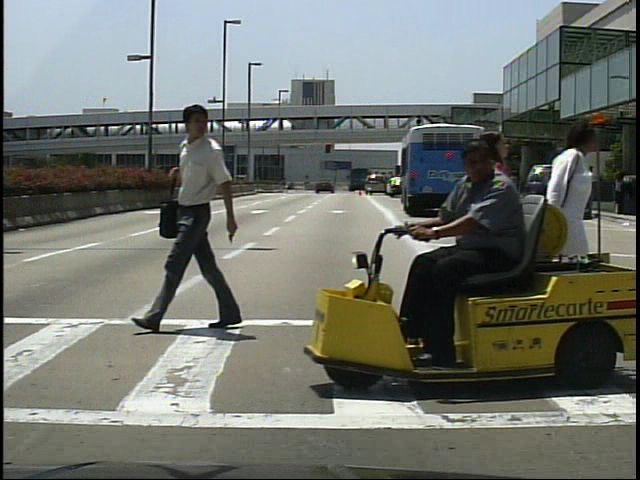person: (404, 136, 532, 369), (140, 97, 246, 330), (522, 110, 603, 366), (447, 125, 511, 357), (504, 191, 542, 326), (581, 166, 602, 222), (501, 166, 519, 218), (488, 163, 507, 212)
